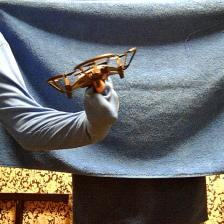drone: (45, 46, 138, 100)
